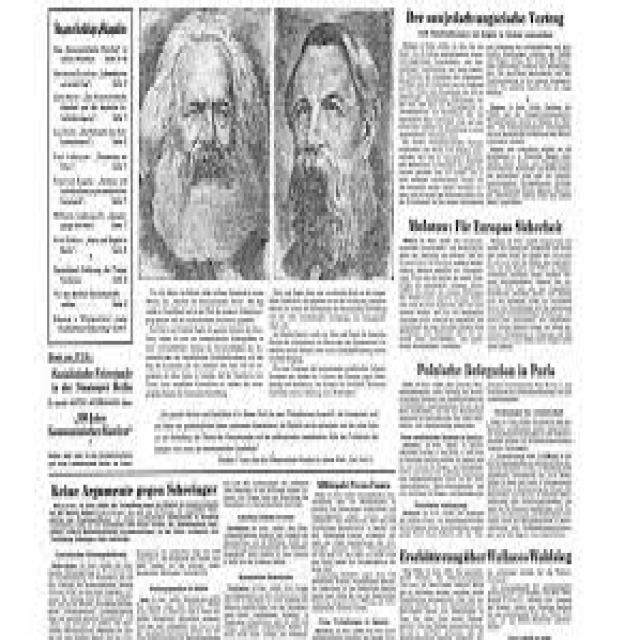paper: (48, 9, 570, 640)
